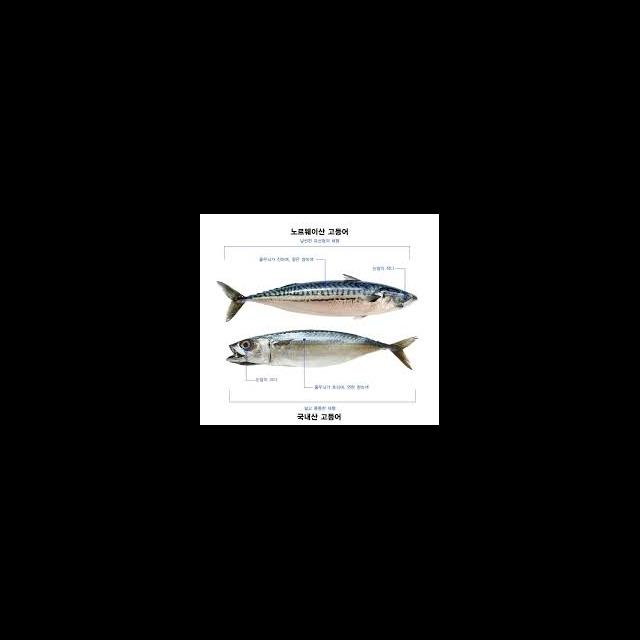fish: (219, 274, 418, 322)
